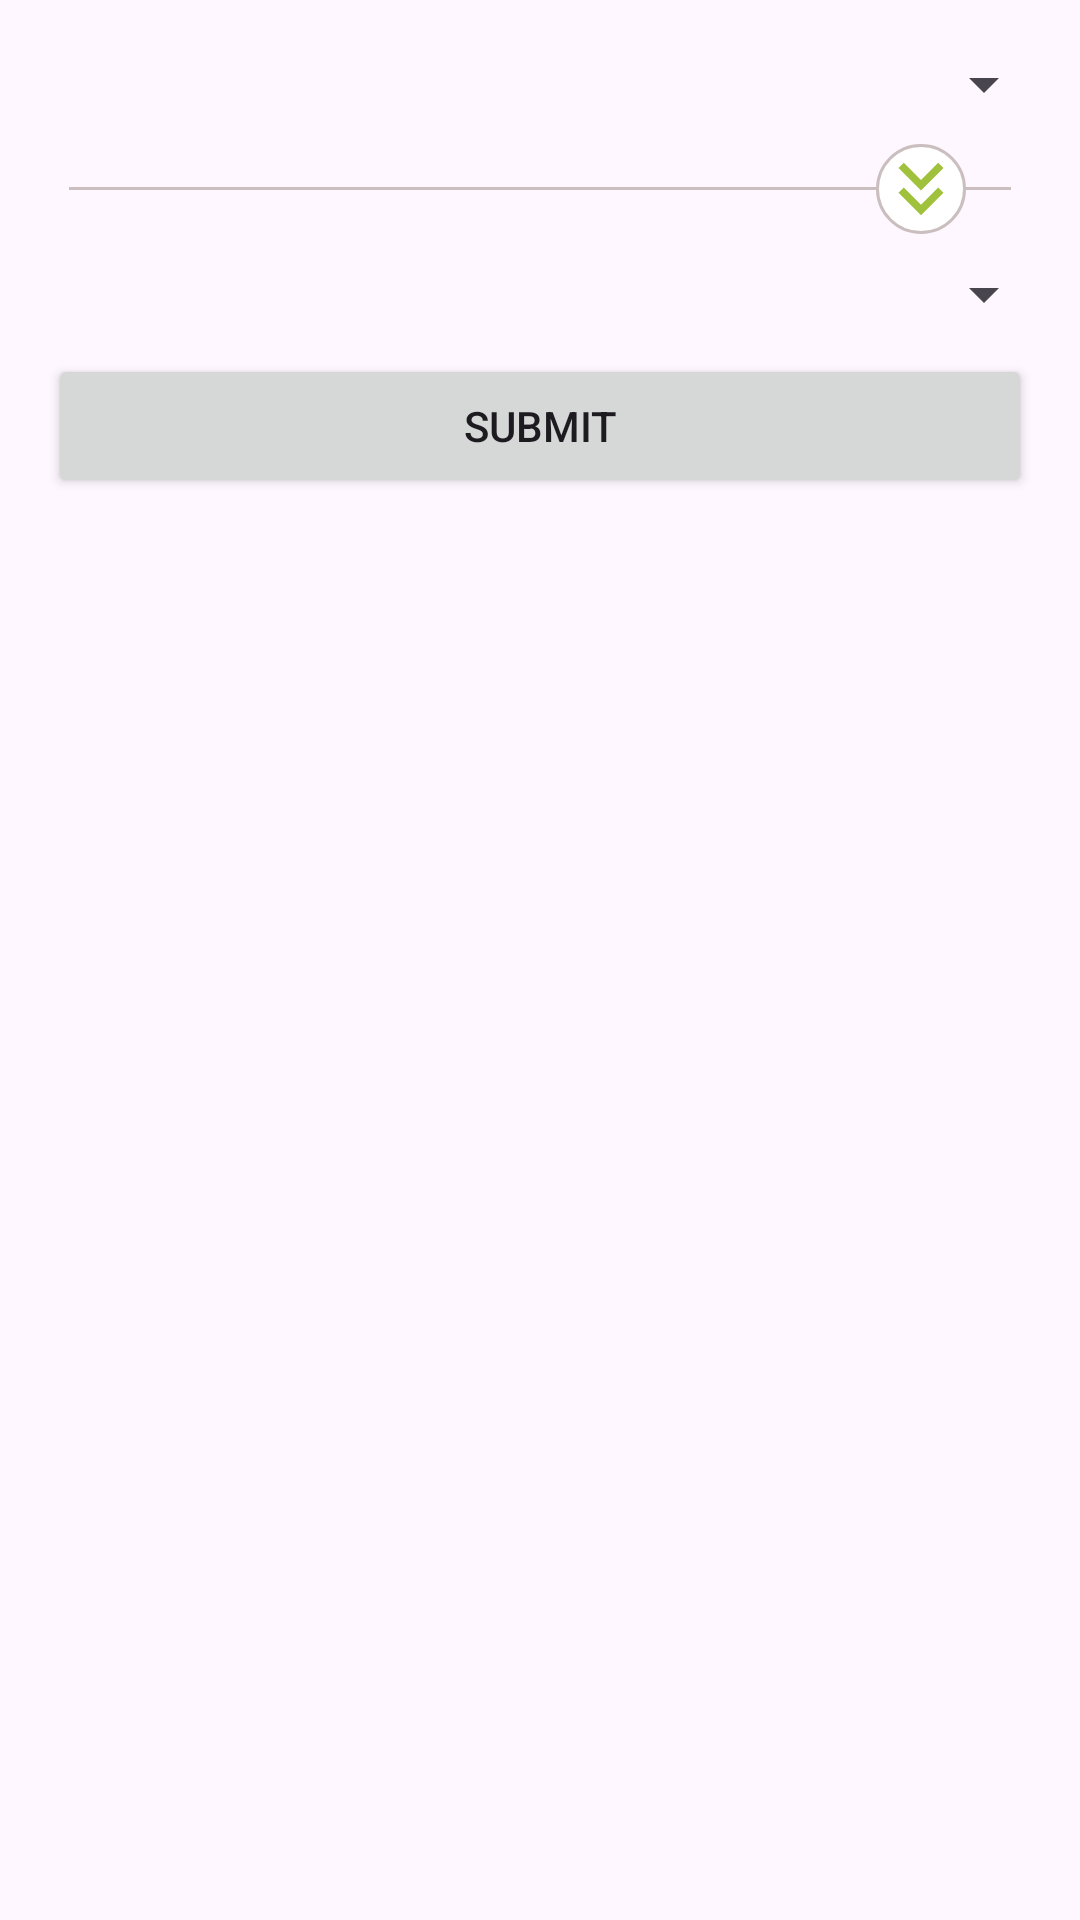

Icon bounding boxes for this 1080×1920 phone screenshot, format Rect(x1, y1, x2, y2):
keyboard double arrow down: Rect(876, 144, 966, 234)
